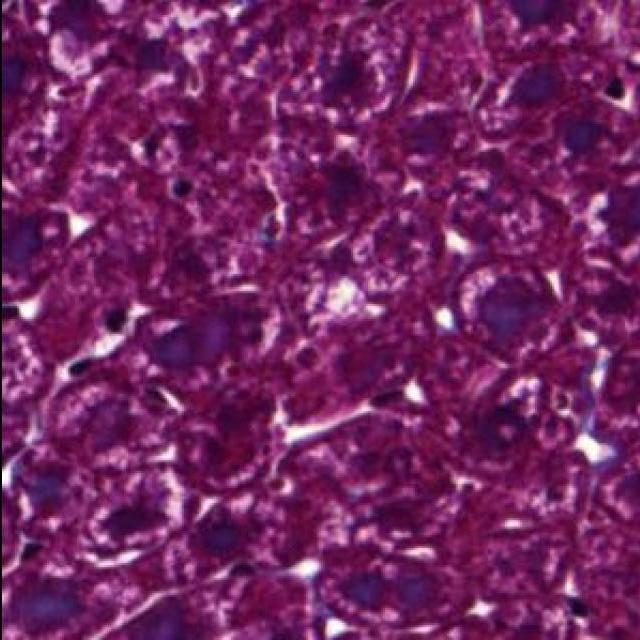inflammation: (478, 400, 531, 452), (322, 52, 363, 102), (196, 521, 239, 558), (564, 120, 602, 154), (369, 380, 411, 410), (0, 299, 35, 320), (14, 541, 42, 564), (102, 309, 124, 334), (166, 178, 191, 200), (565, 596, 587, 618), (604, 78, 624, 100), (66, 360, 90, 377)
